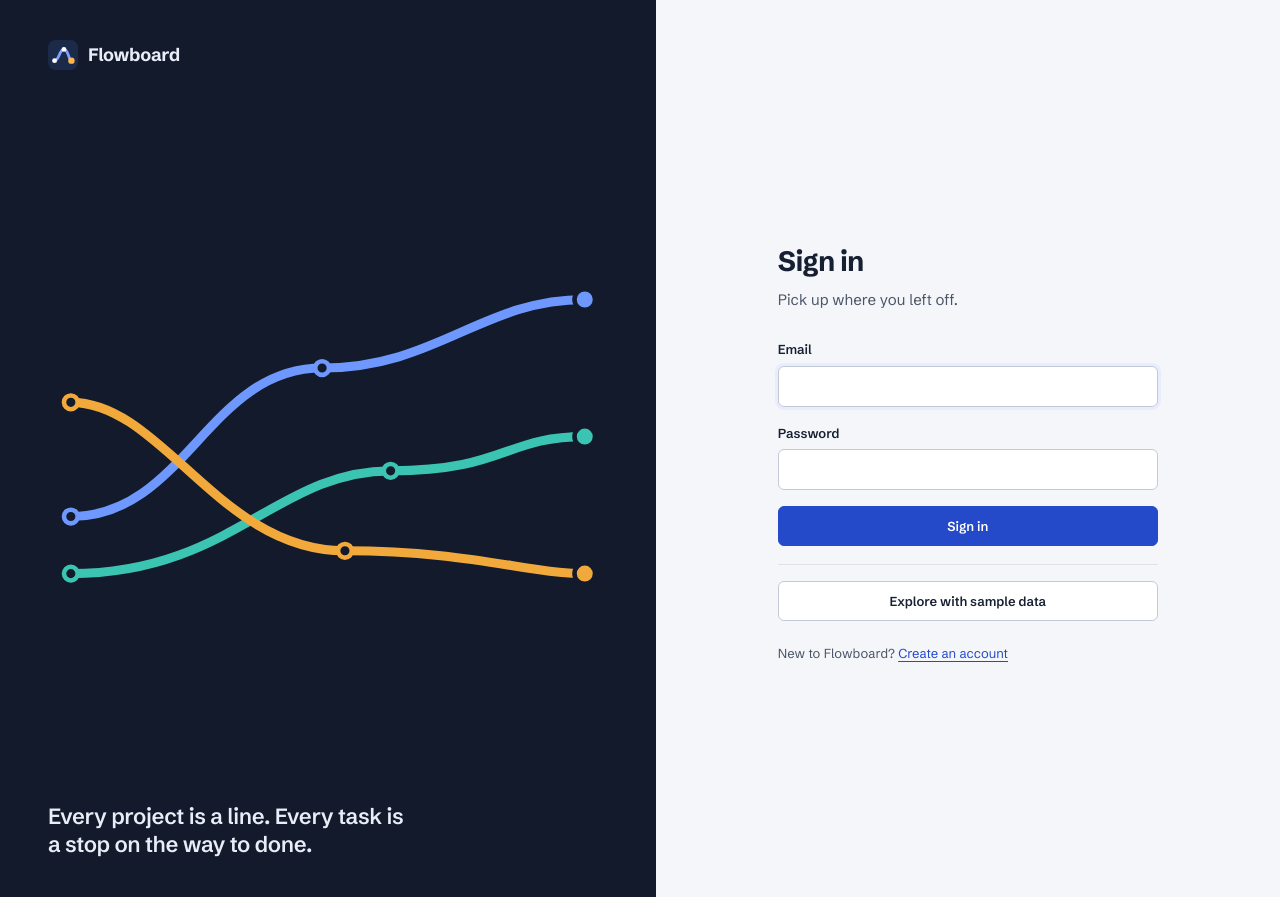
Test: app-wide features › opens the command palette with Ctrl+K and jumps to a task
Click the button "Explore with sample data" at [968, 601], box [778,581,1158,621]
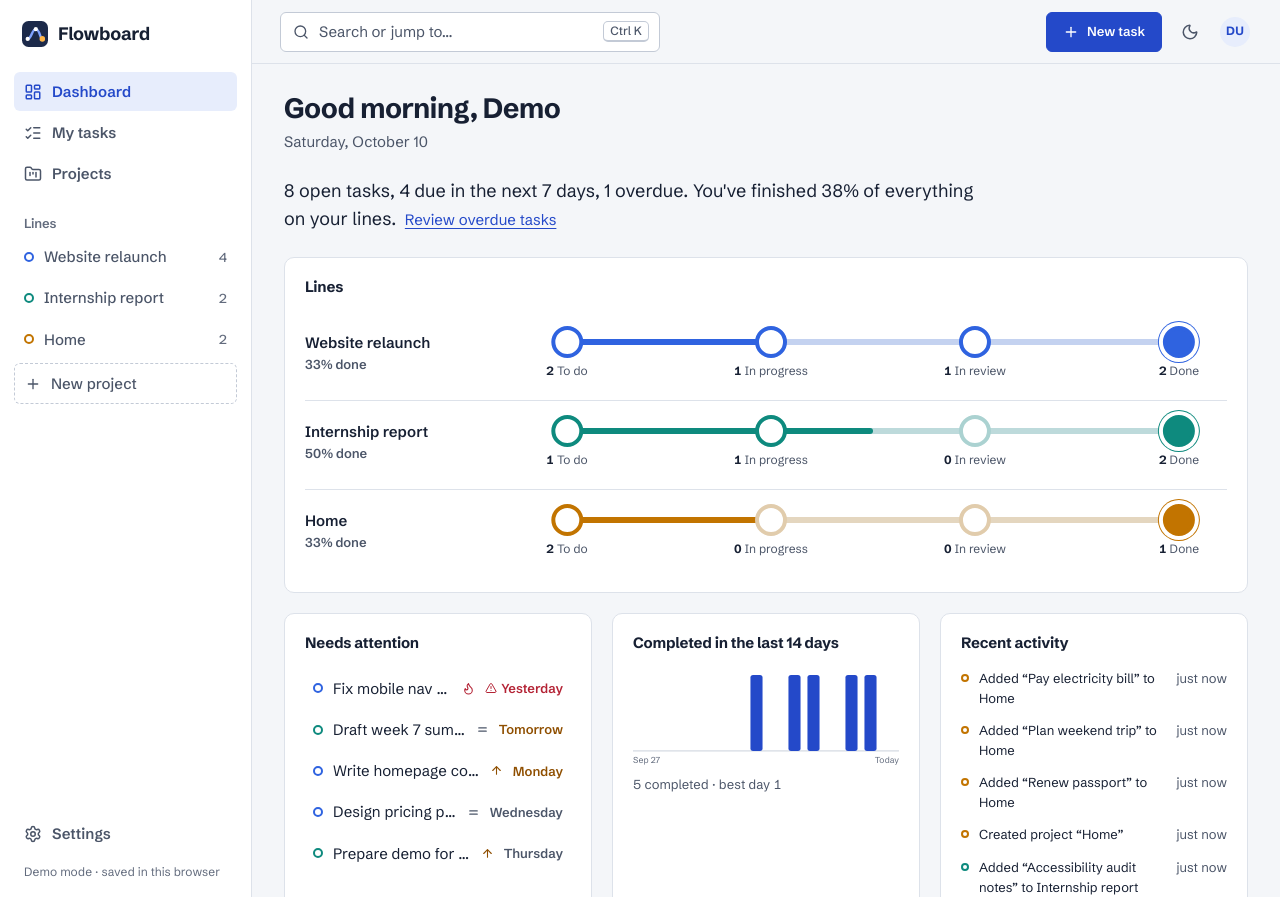
Expected: the element "Lines" is shown, [284,257,1248,593]
Type keys "{Control>}k{/Control}"
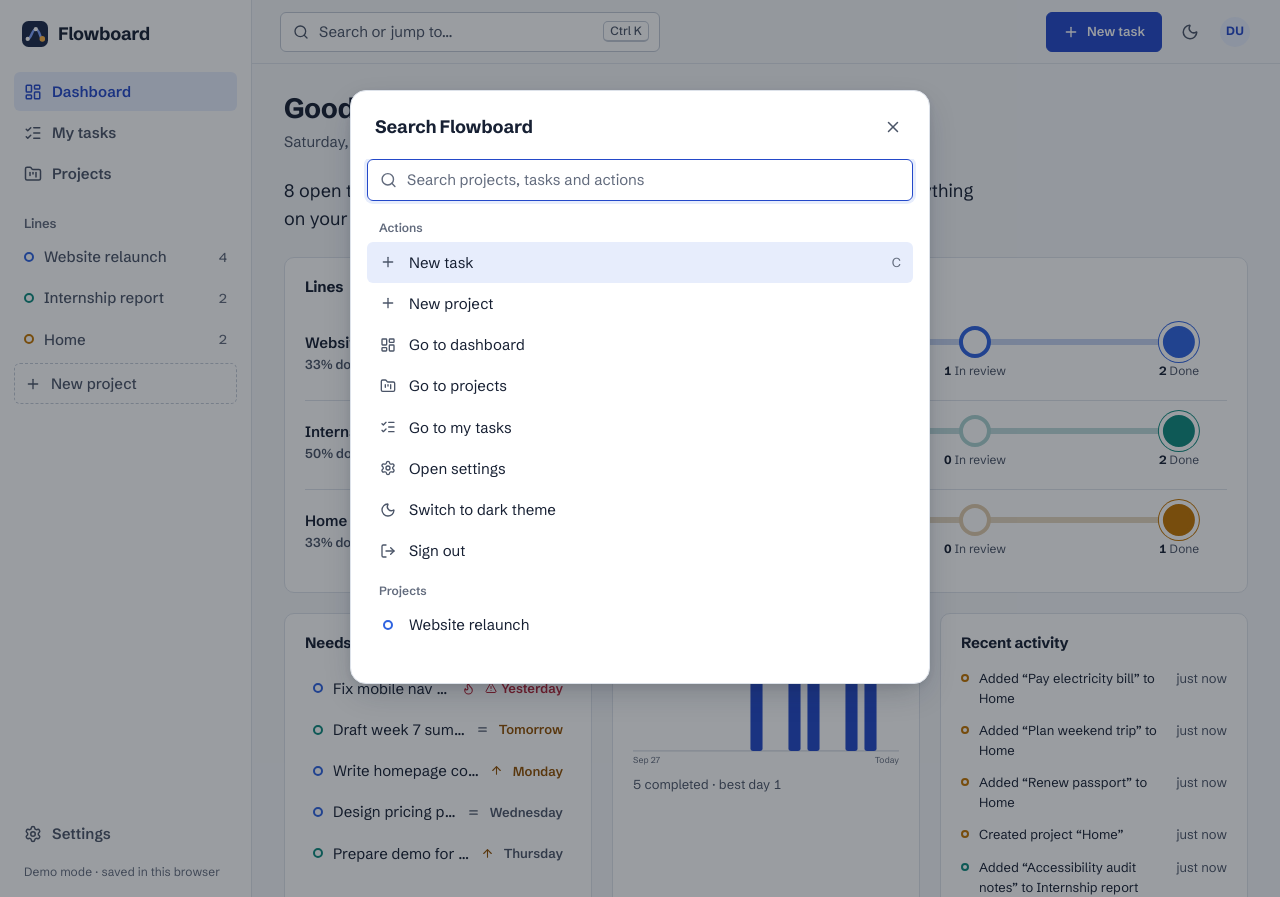
Type "passport" into the dropdown labelled "Search projects, tasks and actions" at [654, 180], box [407,160,900,200]
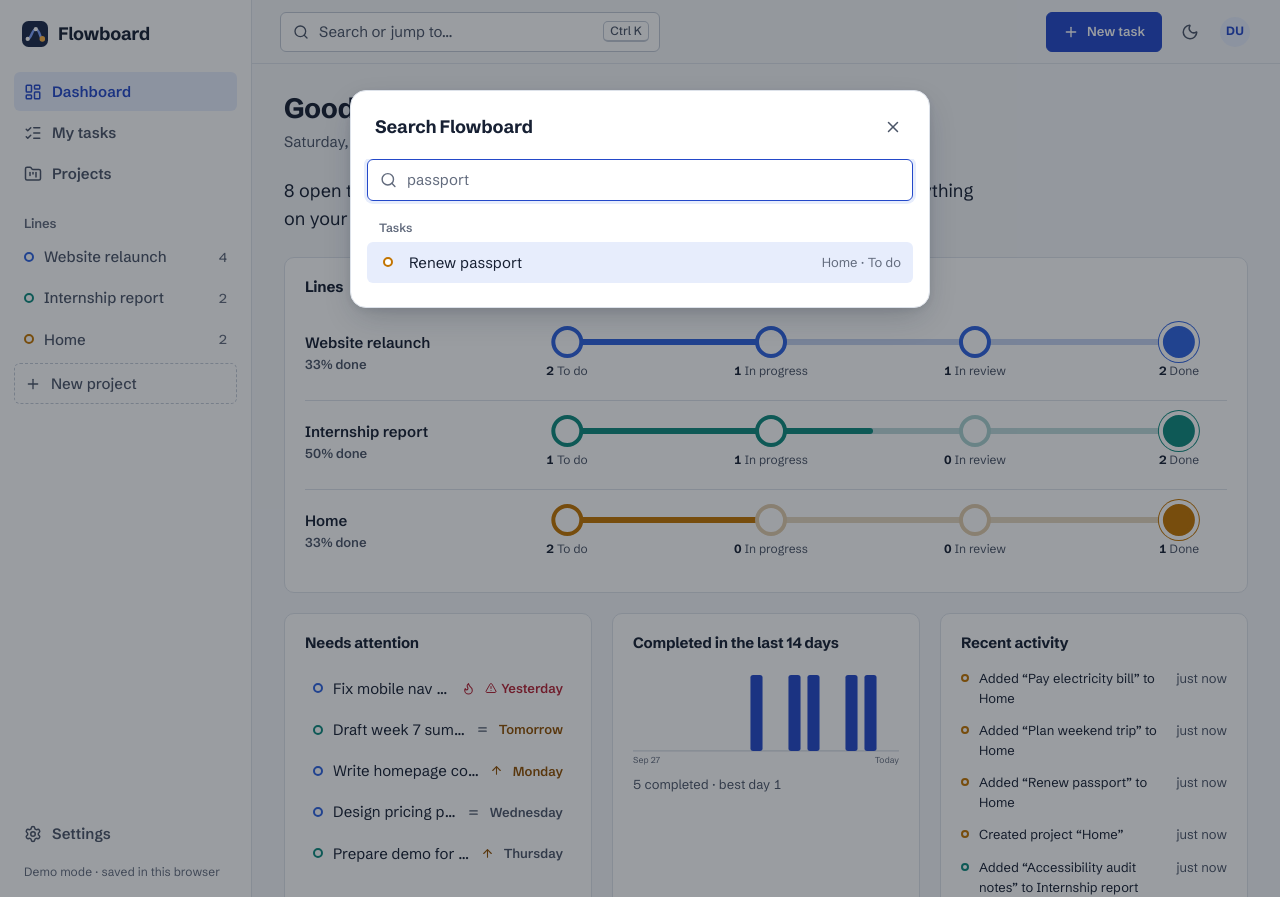
Press Enter
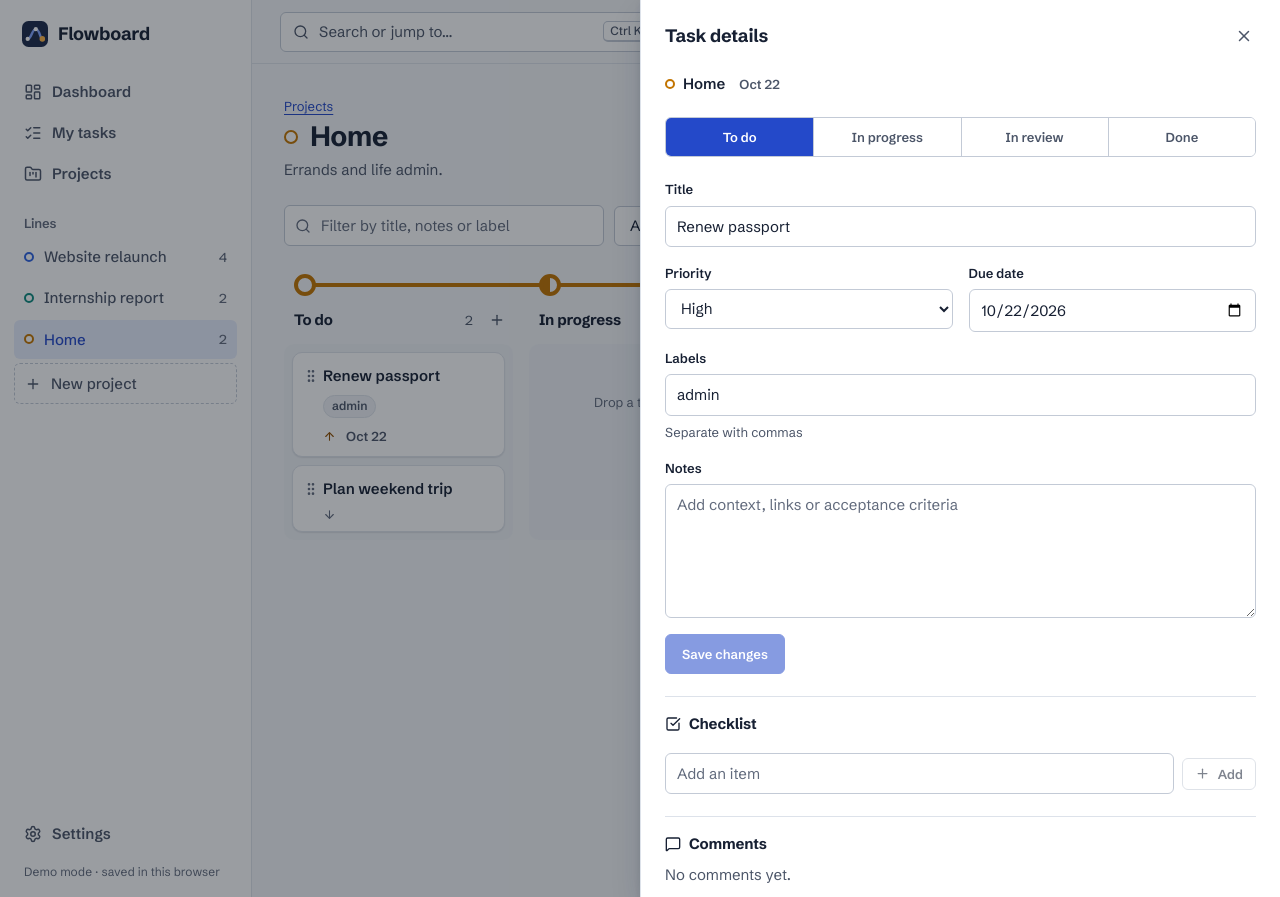
Expected: the field labelled "Title" holds "Renew passport", [665,206,1256,247]
